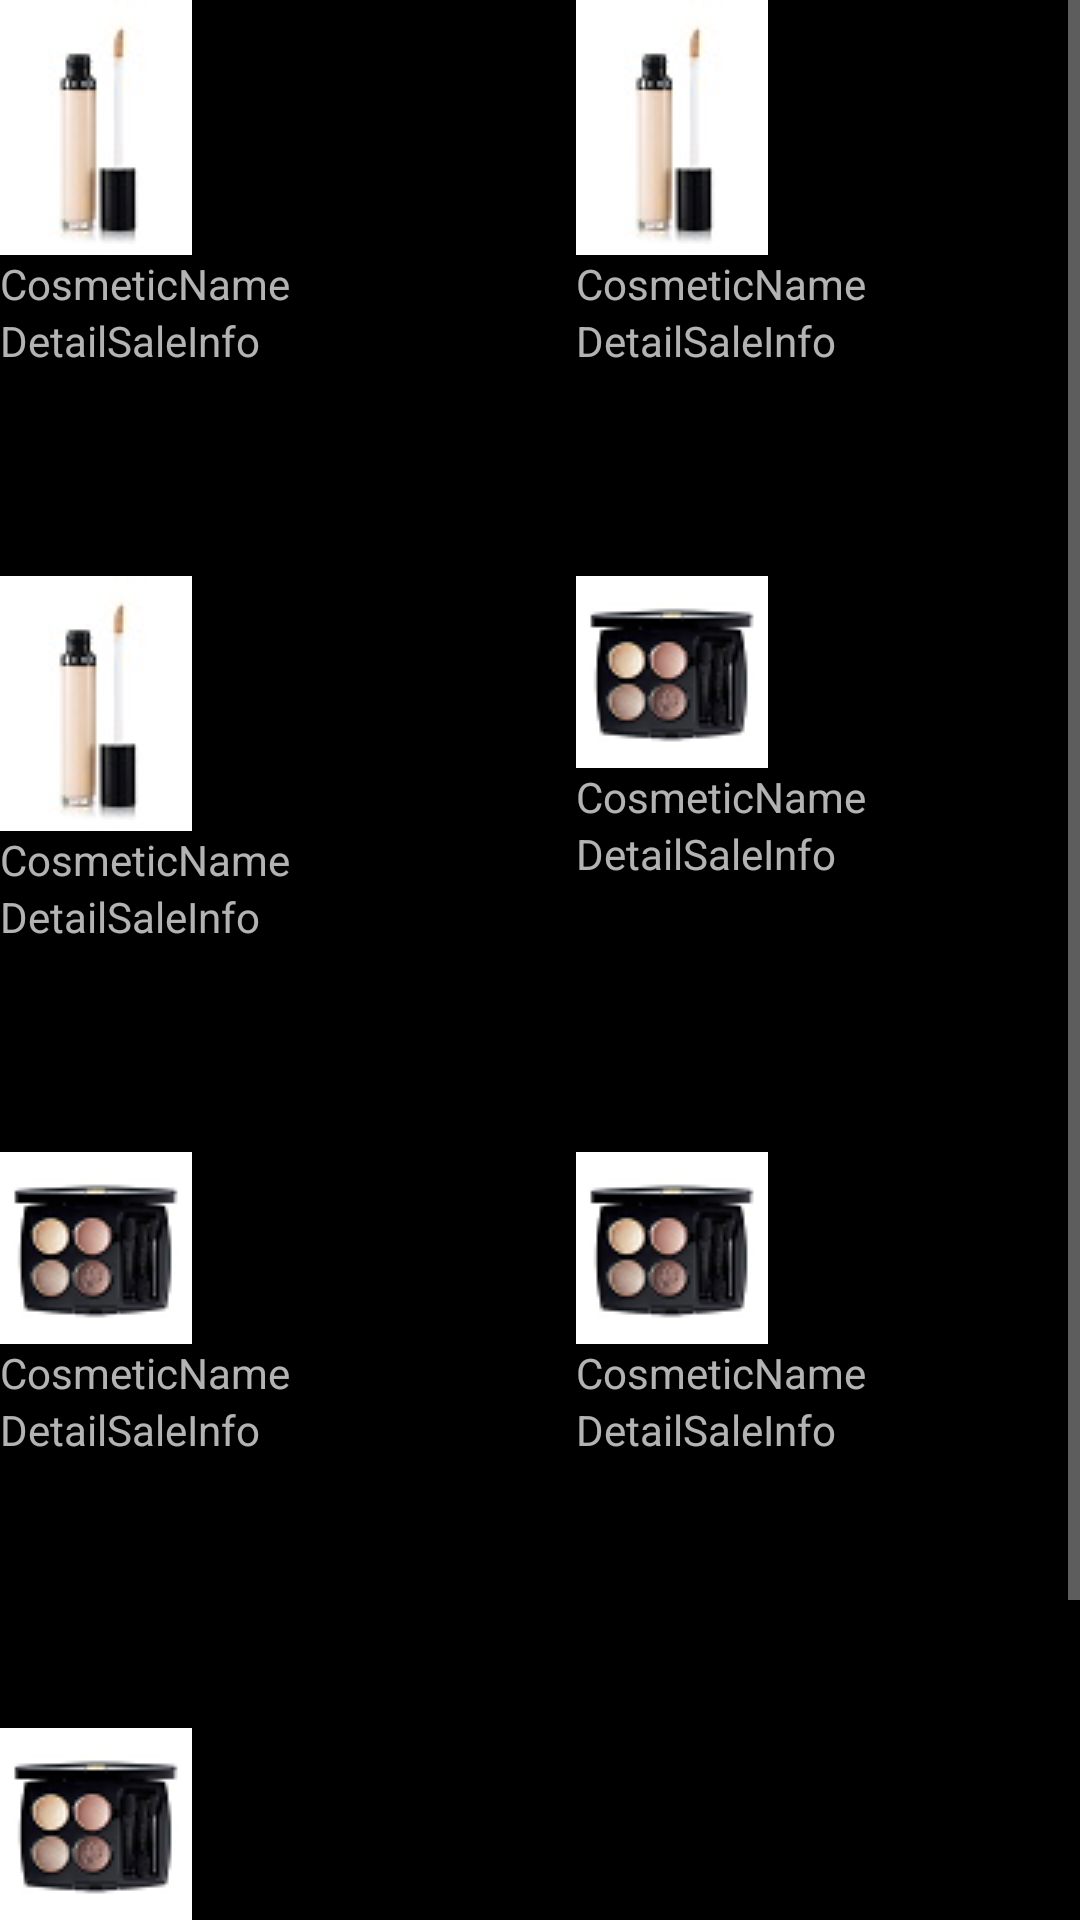

Icons on this 1080x1920 Android screen, each with the point to tap as (x=x, y=y):
concealer: (x=96, y=127), (x=672, y=127), (x=96, y=703)
eyeshadow: (x=672, y=672), (x=96, y=1248), (x=672, y=1248), (x=96, y=1824)
